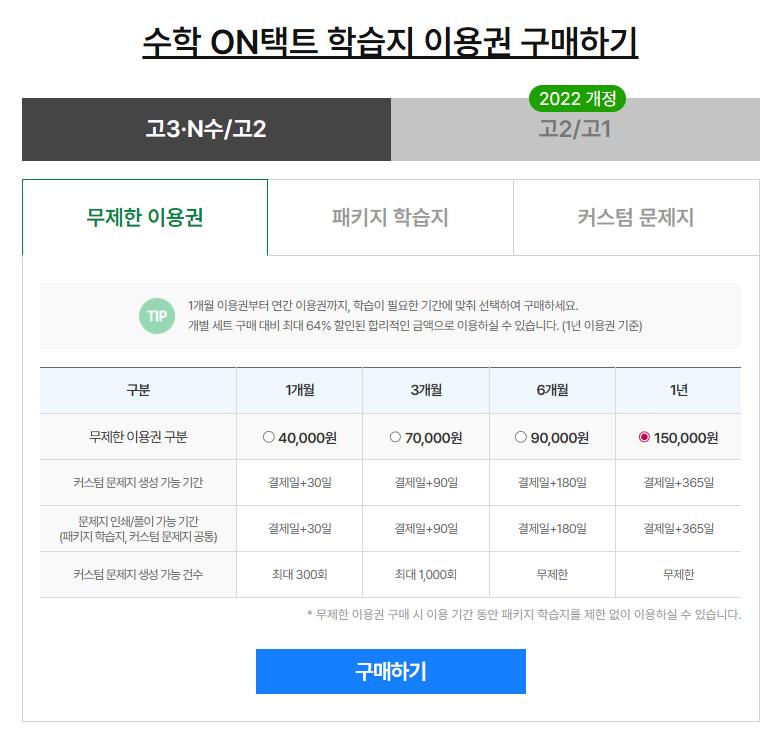button: (403, 98, 763, 164), (20, 100, 381, 163), (523, 191, 746, 264), (32, 184, 264, 254), (268, 187, 513, 252), (254, 646, 528, 700)
checkbox: (631, 426, 726, 449), (512, 428, 591, 448), (263, 424, 340, 444), (388, 430, 476, 446)
